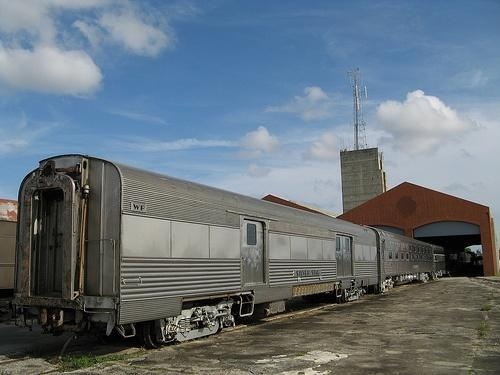train: (16, 155, 477, 345)
